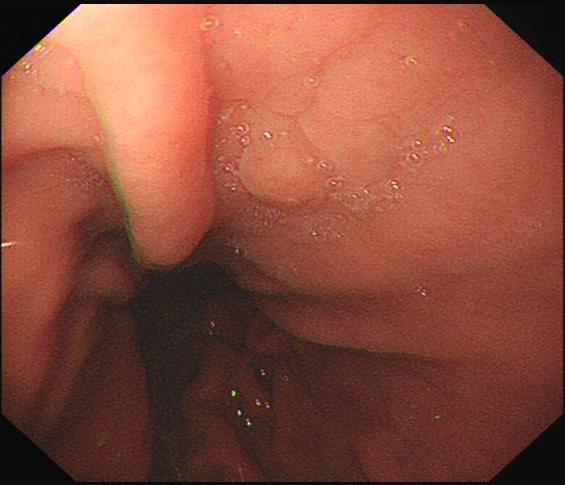Polyp: (236, 139, 333, 210)
